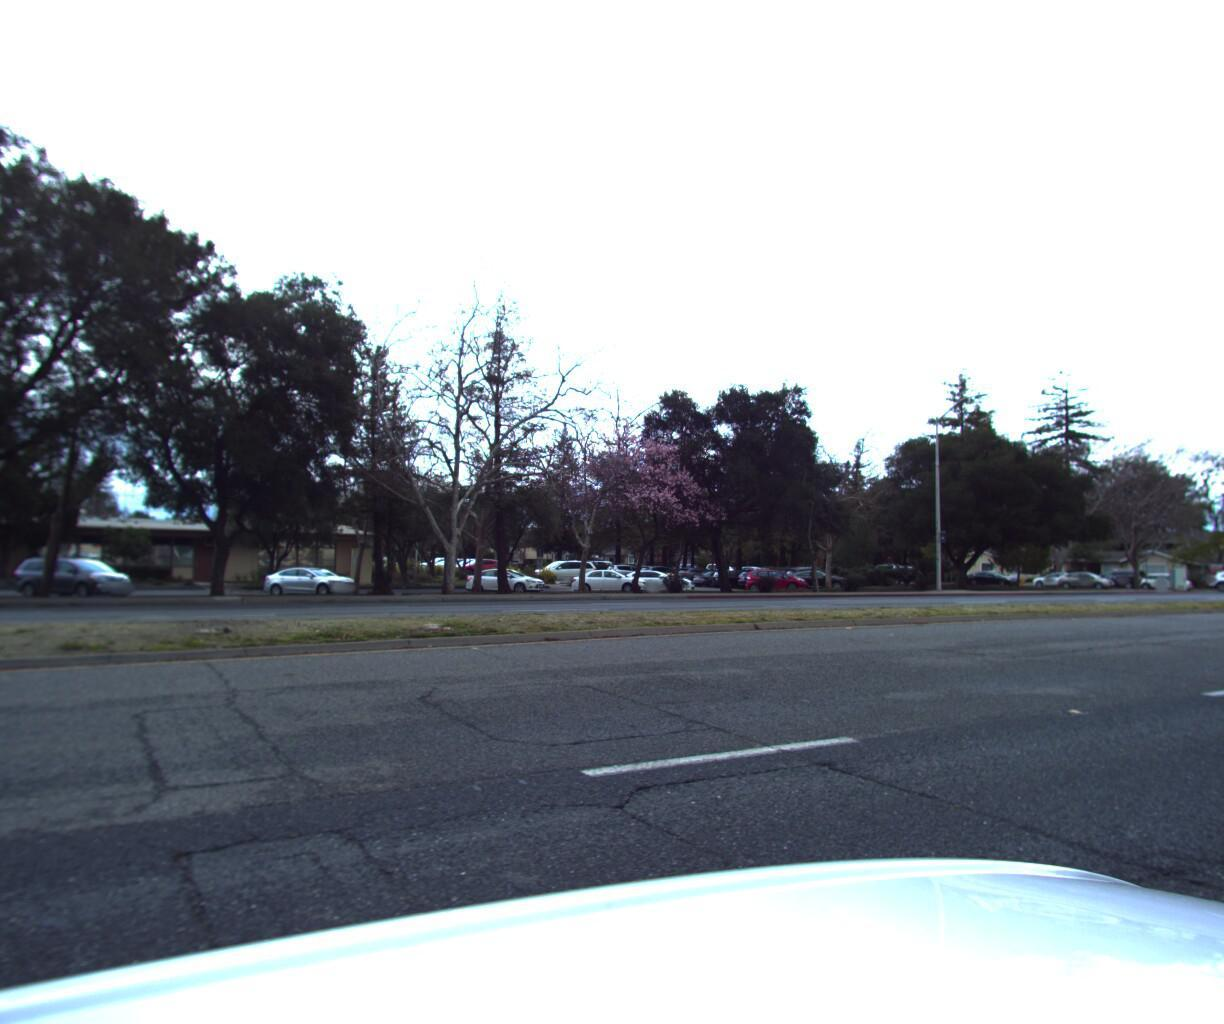car: (1053, 565, 1116, 585), (1134, 566, 1194, 586), (1025, 565, 1080, 584), (1203, 563, 1224, 588)
